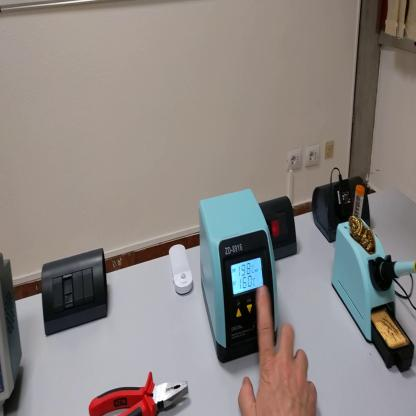hand: (238, 284, 320, 415)
oscilloscope: (2, 255, 23, 416)
pliers: (90, 365, 190, 416)
socket: (312, 171, 372, 243), (260, 195, 299, 261)
welder base: (331, 184, 416, 373)
welder probe tip: (381, 260, 416, 281)
welder station: (199, 188, 278, 364)
